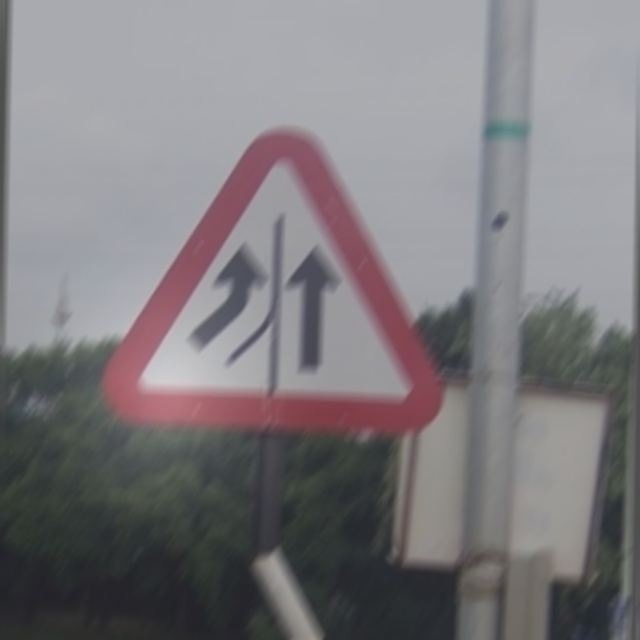Merge_Traffic_Ahead: (96, 120, 458, 451)
